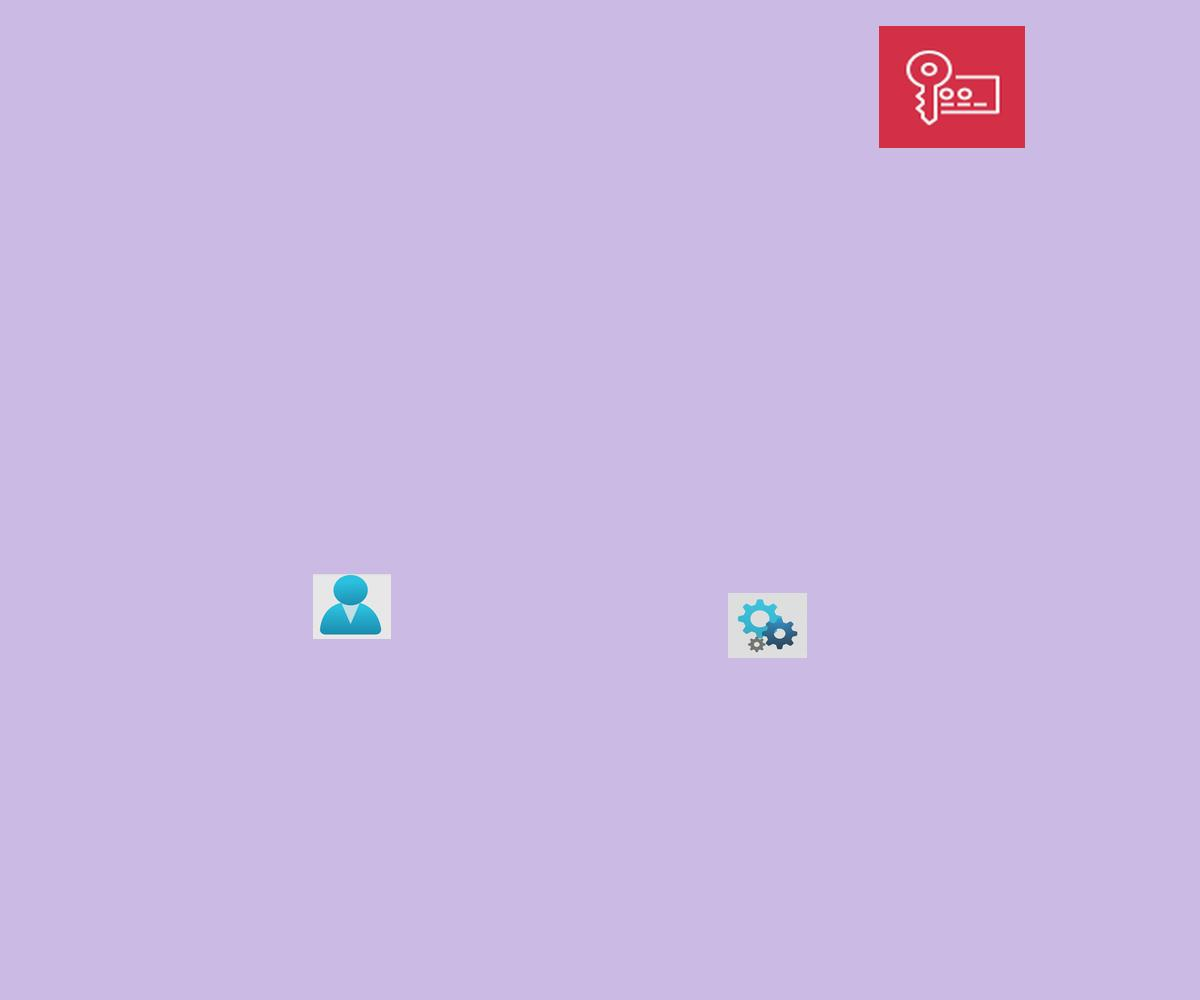AWS-Key-Management-Service: (879, 26, 1025, 148)
Azure_api: (728, 593, 807, 658)
Azure_users: (313, 574, 391, 639)
